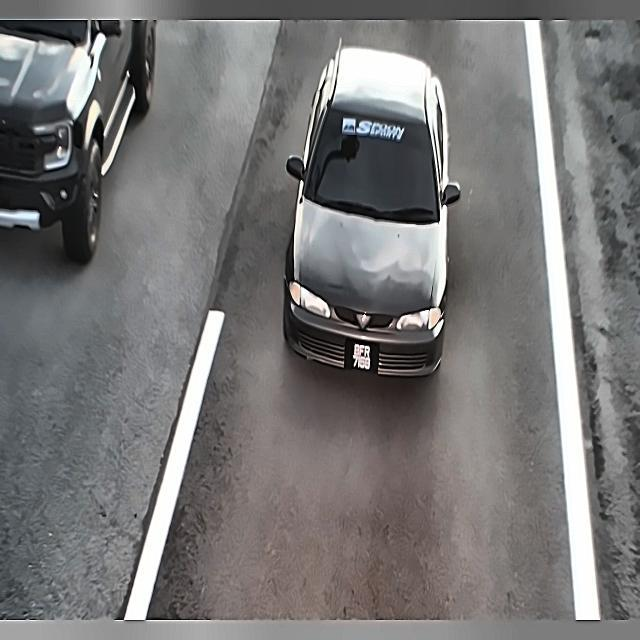car: (340, 337, 383, 383)
